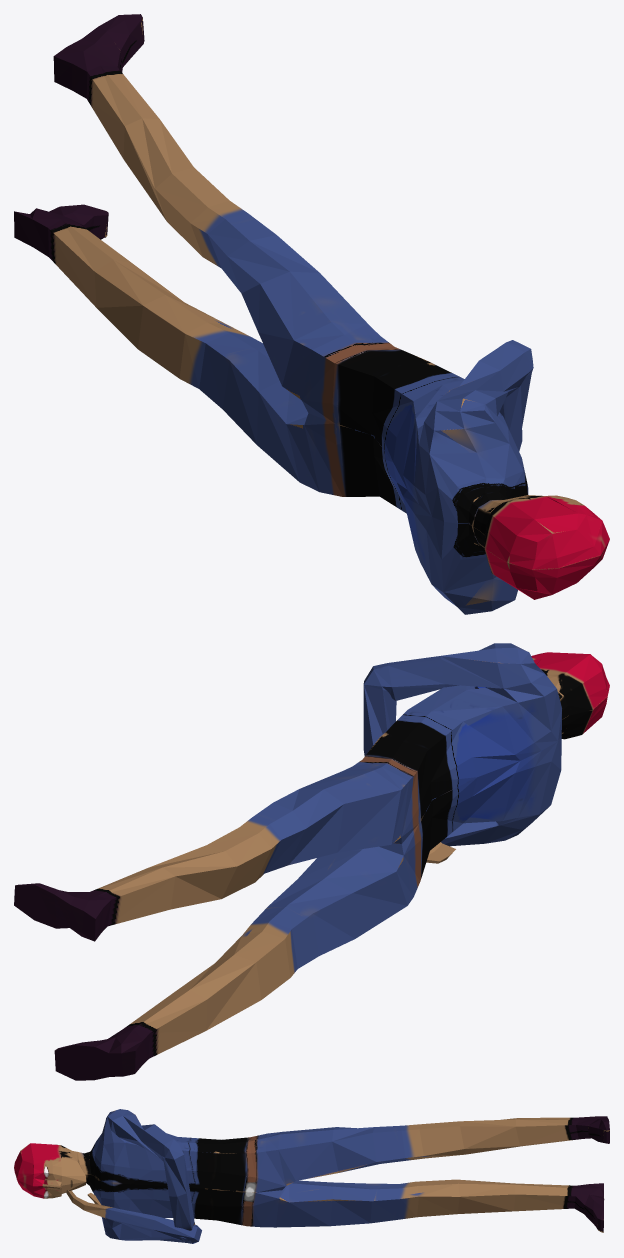
The model's file is mirrorman_000015.obj.
3 renders of one model, top to bottom at view 1: azimuth 30°, elevation 25°; view 2: azimuth 150°, elevation 25°; view 3: azimuth 270°, elevation 25°, orthographic. The views are drawn at different scales.
Visible parts, largest first — view 1: mirrorman_Cube.001_Material.001; view 2: mirrorman_Cube.001_Material.001; view 3: mirrorman_Cube.001_Material.001.
Boxes of the visible parts, bbox=[...] form: mirrorman_Cube.001_Material.001: bbox=[14, 14, 609, 614]; mirrorman_Cube.001_Material.001: bbox=[14, 643, 609, 1080]; mirrorman_Cube.001_Material.001: bbox=[14, 1109, 609, 1243].
Bounding box in the file's own units: 0.3393 × 0.4844 × 1.91.
